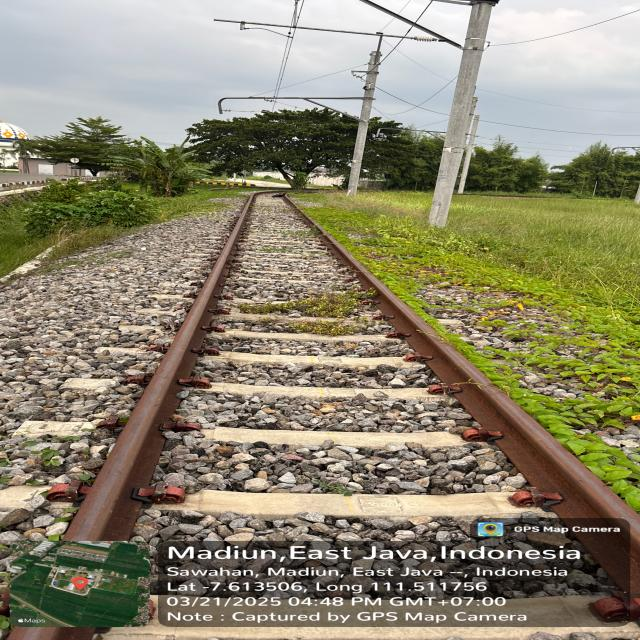rail-detection: (303, 215, 640, 595), (65, 194, 257, 540), (280, 194, 494, 389), (575, 468, 634, 520), (19, 630, 89, 640)
